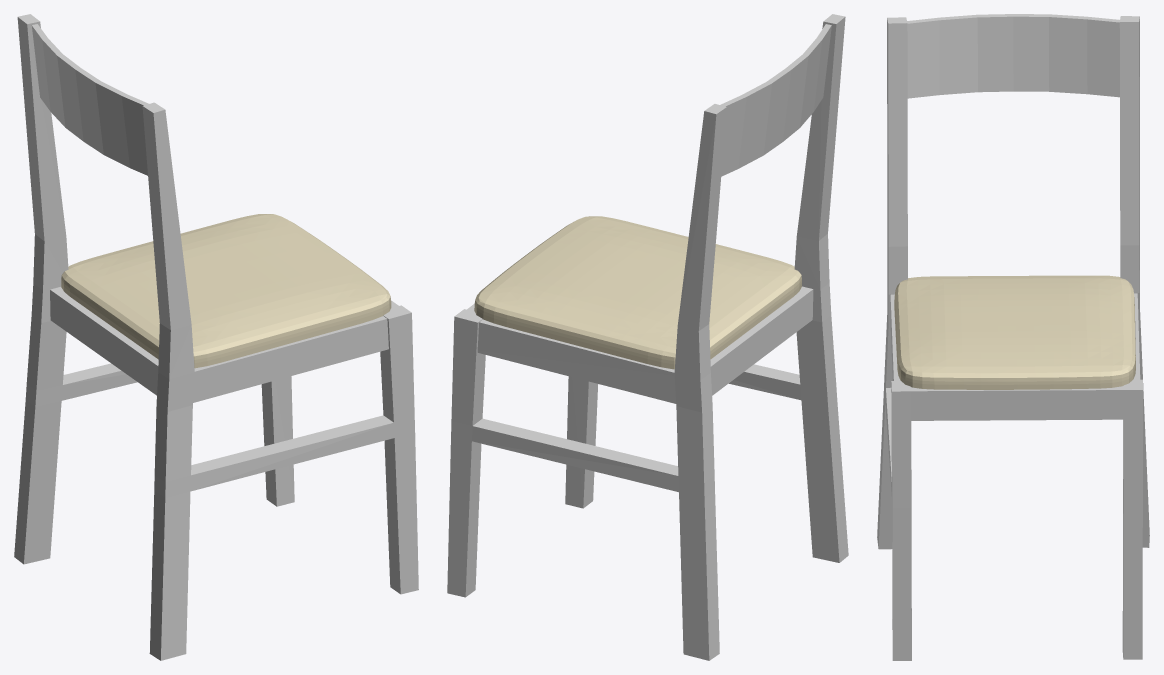
The model's file is sweethome3d-scopia-chair-30.glb.
3 views of the same model, side by side, from view 1: azimuth 30°, elevation 25°; view 2: azimuth 150°, elevation 25°; view 3: azimuth 270°, elevation 25° (orthographic). The views are drawn at different scales.
Visible parts, largest first — view 1: chair.004_Cube.012, cus_chair.004_Cube.011; view 2: chair.004_Cube.012, cus_chair.004_Cube.011; view 3: chair.004_Cube.012, cus_chair.004_Cube.011.
Part boxes in pixels (left/top/right/bottom): chair.004_Cube.012: left=14, top=14, right=418, bottom=660; cus_chair.004_Cube.011: left=61, top=214, right=391, bottom=368; chair.004_Cube.012: left=447, top=14, right=848, bottom=660; cus_chair.004_Cube.011: left=474, top=216, right=801, bottom=369; chair.004_Cube.012: left=877, top=14, right=1149, bottom=660; cus_chair.004_Cube.011: left=894, top=275, right=1135, bottom=389.
Bounding box in the file's own units: 0.4745 × 0.8811 × 0.42.
